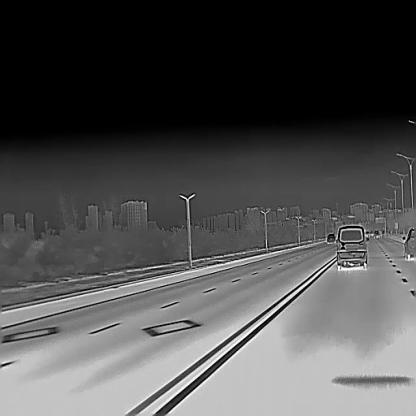car: (335, 222, 369, 269), (401, 227, 415, 259), (326, 232, 336, 242), (373, 228, 380, 236)
